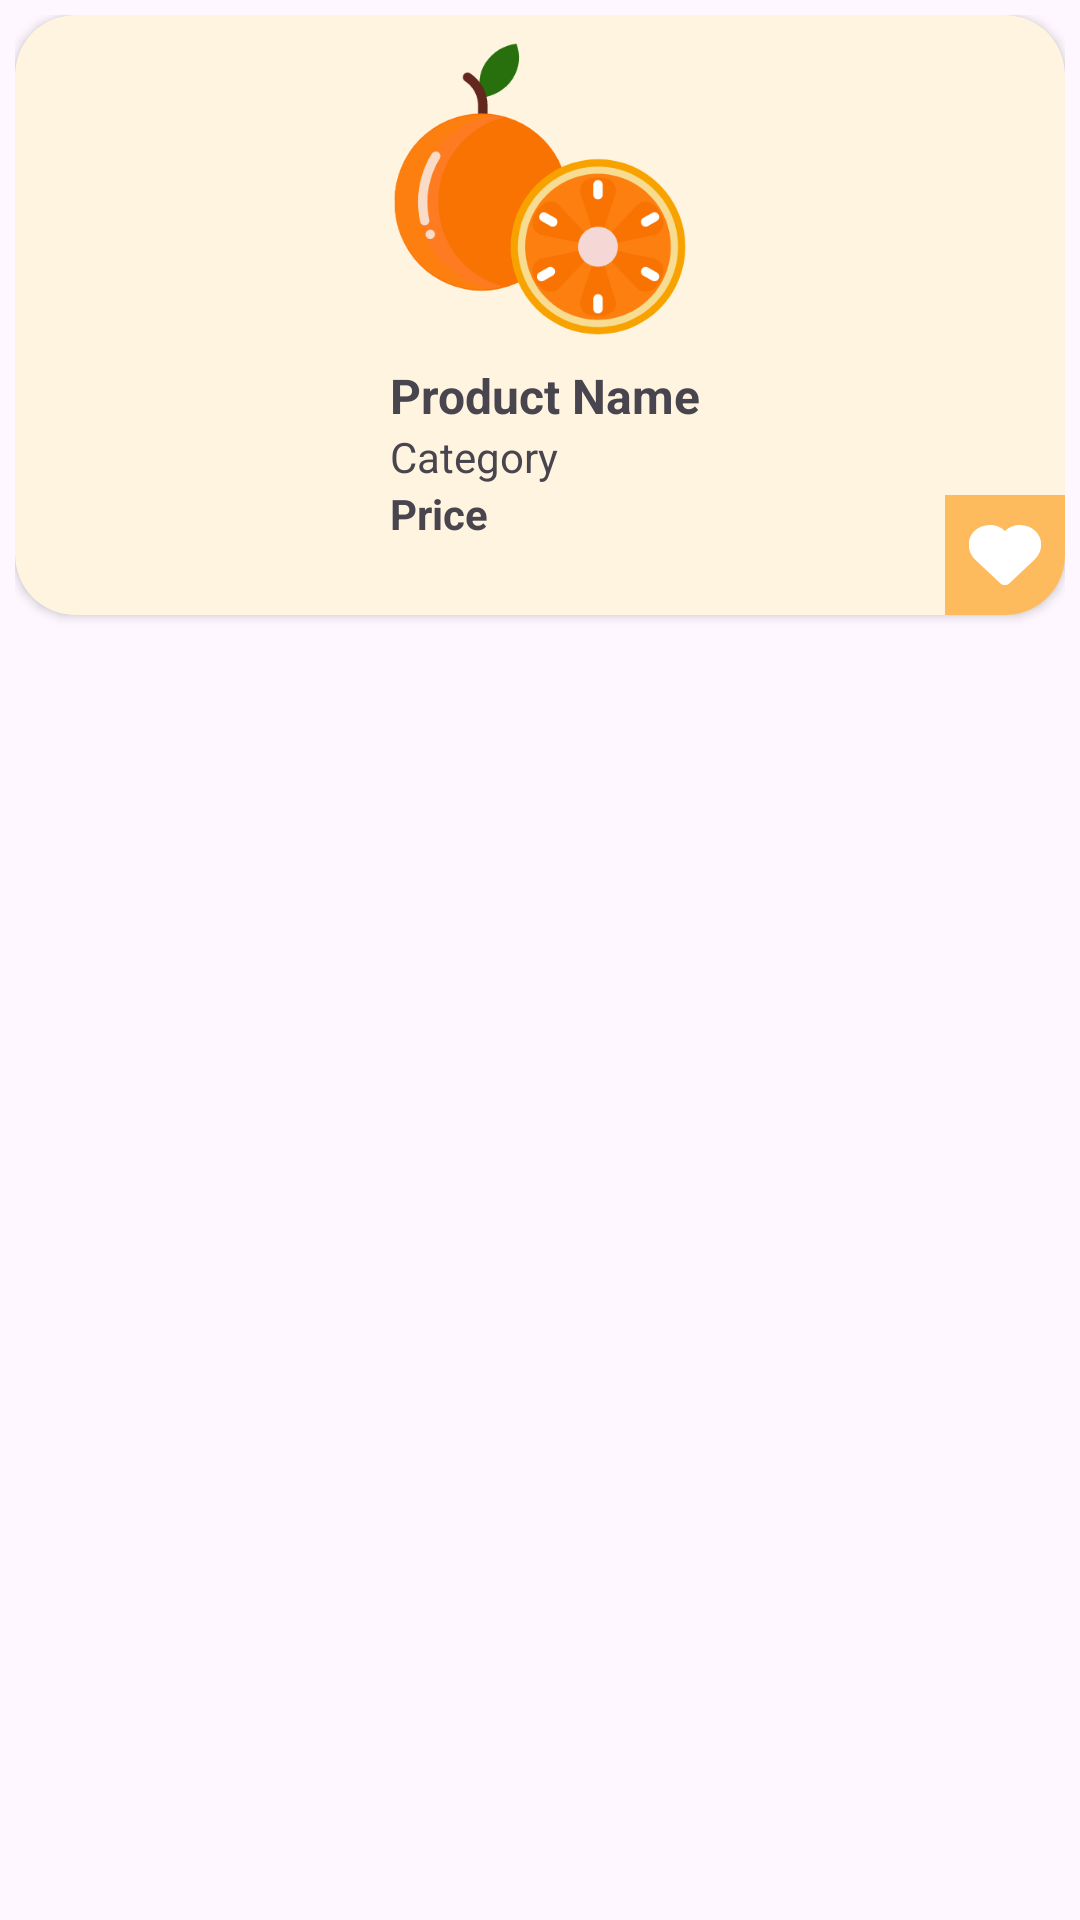

Screen size 1080×1920. Icon name, then its center in pixels as point (x, y):
heart: point (1005, 555)
